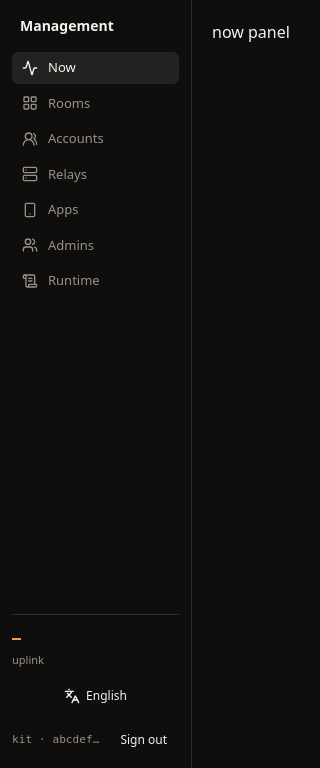
Test: moving between panels › takes a second press while leaving as the panel chosen, and never draws the one passed over
Expected: the text "now panel" is shown, [212,21,290,43]
What coordinates should you click on to do the following:
click the button "Relays"
I would click on:
 (96, 174)
Its box is [12,158,179,190].
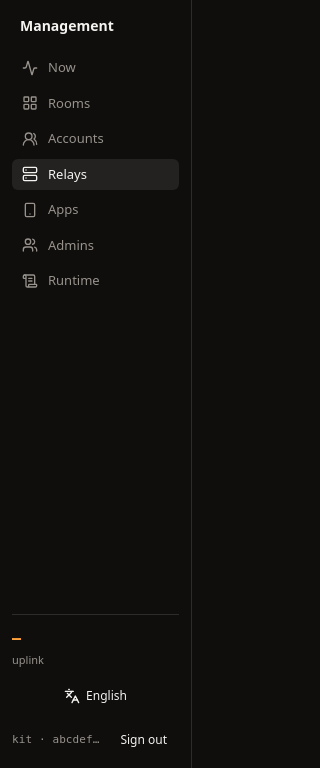
What coordinates should you click on to do the following:
click the button "Apps"
I would click on:
 (96, 210)
Its box is [12,194,179,226].
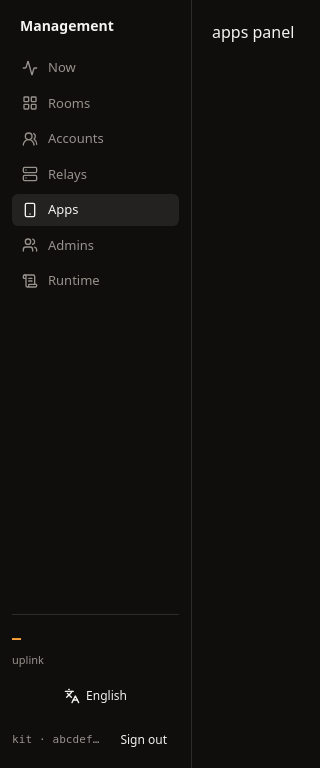
Expected: the text "apps panel" is shown, [212,21,294,43]
